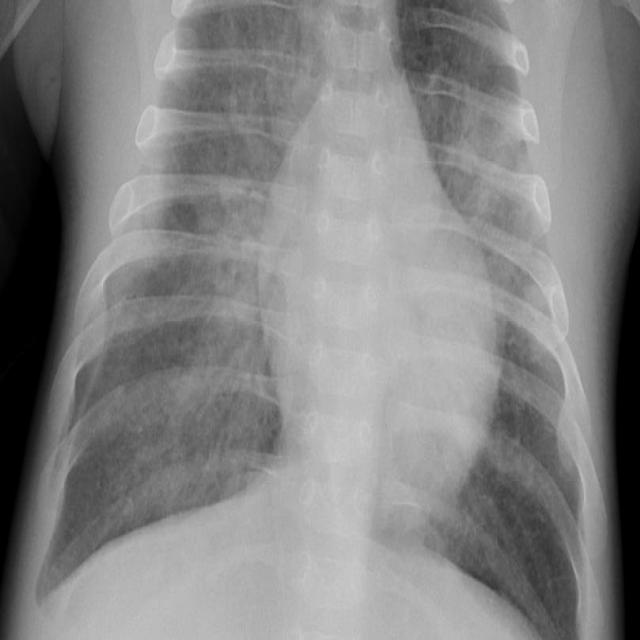low-pneumonia: (426, 67, 531, 235), (190, 162, 264, 395)
